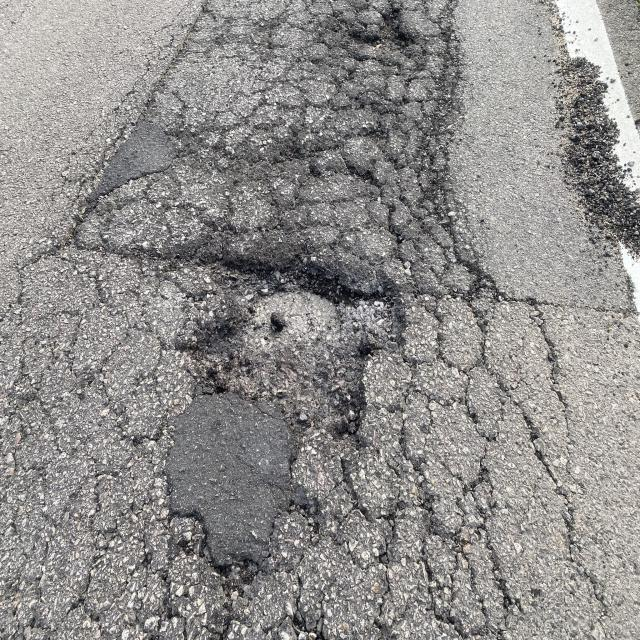Pothole: (134, 224, 423, 640), (311, 0, 519, 164)
